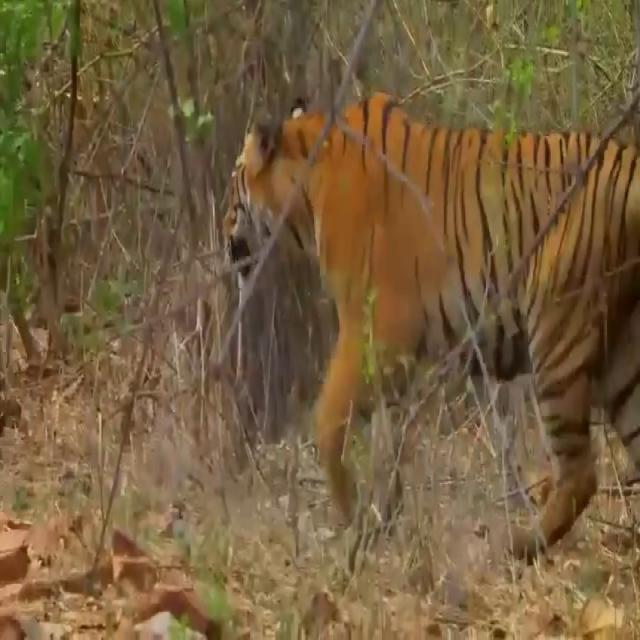tiger: (223, 91, 640, 557)
